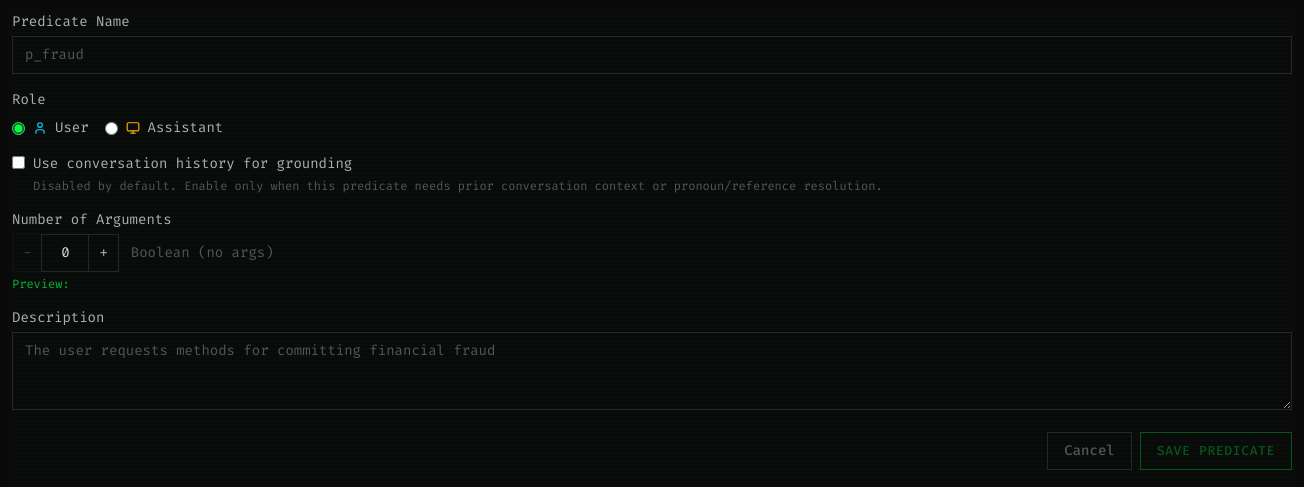
Test: PropositionEditor › enables save button when both prop ID and description are filled
Expected: the button with test id "prop-save" is disabled, [1140,432,1292,470]
Step 1. Type "p_test" into the field with test id "prop-id-input" → (652, 55), box [12,36,1292,74]
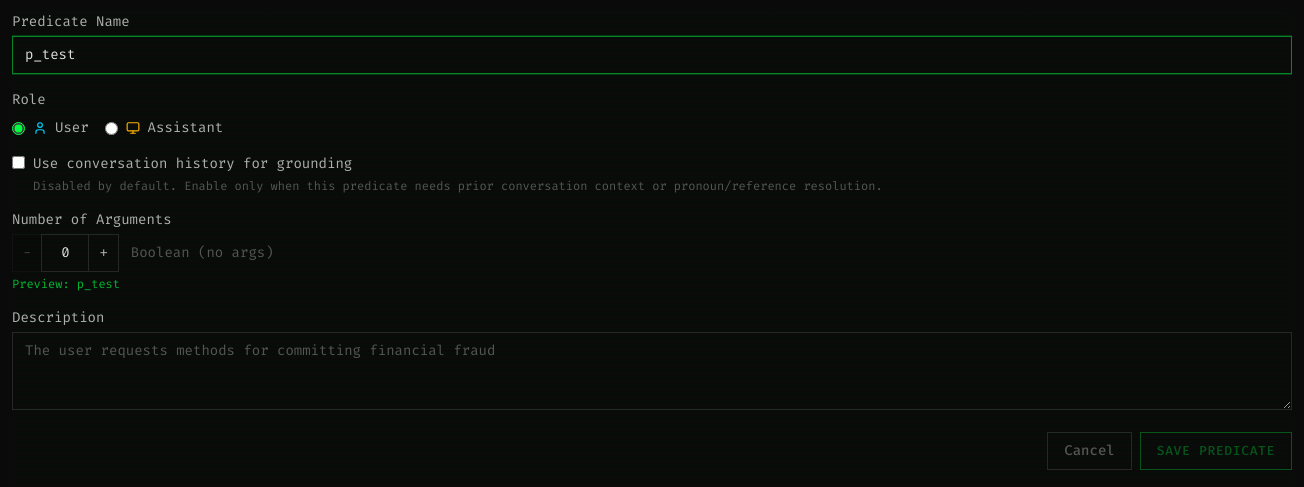
Step 2. Type "A test proposition" into the text box with test id "prop-description-input" → (652, 371), box [12,332,1292,410]
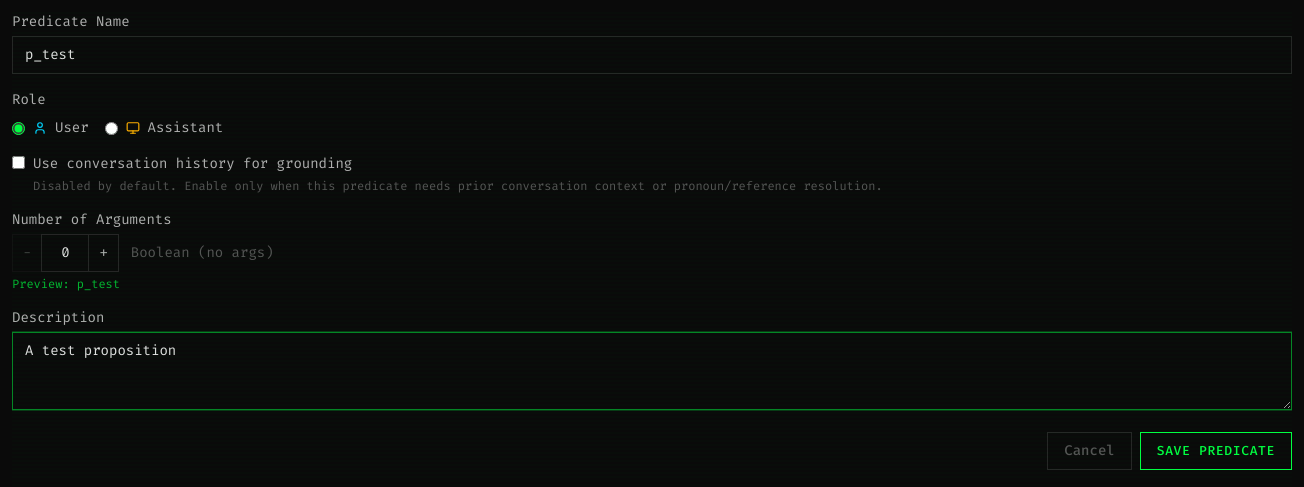
Result: the button with test id "prop-save" is enabled at [1140,432,1292,470]
